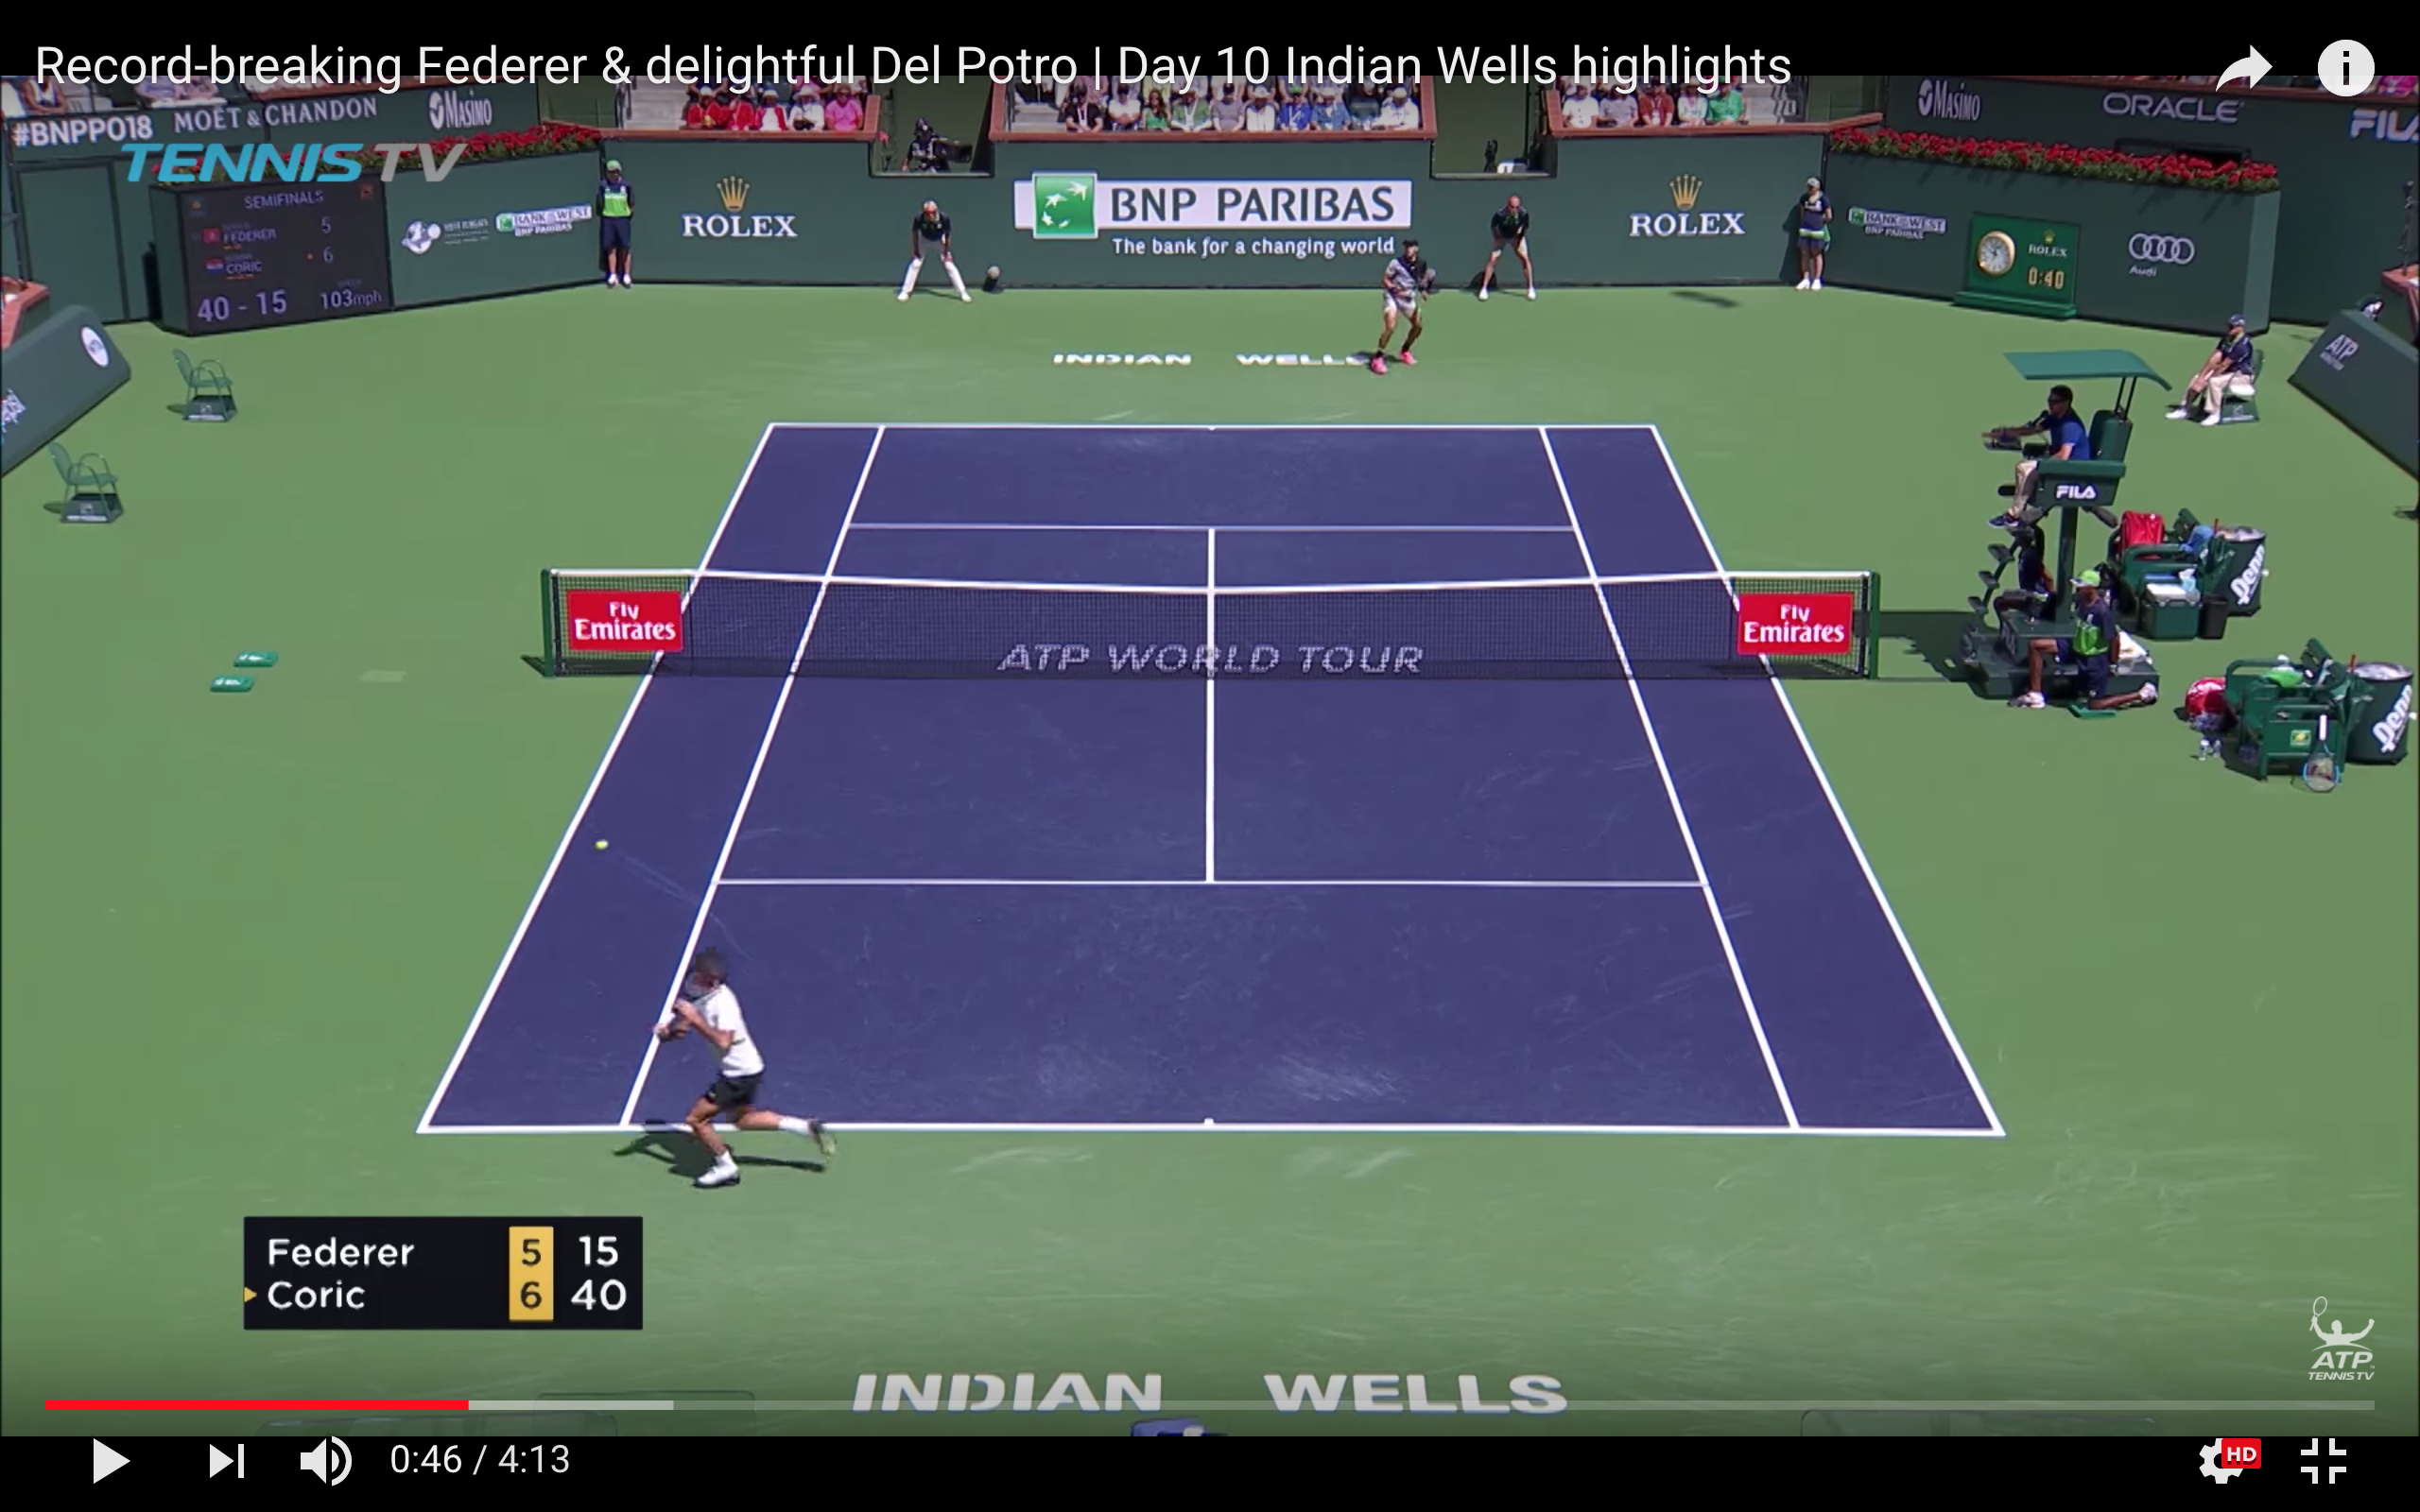tennis ball: (589, 836, 619, 855)
tennis player: (645, 952, 849, 1195), (1358, 234, 1445, 380)
